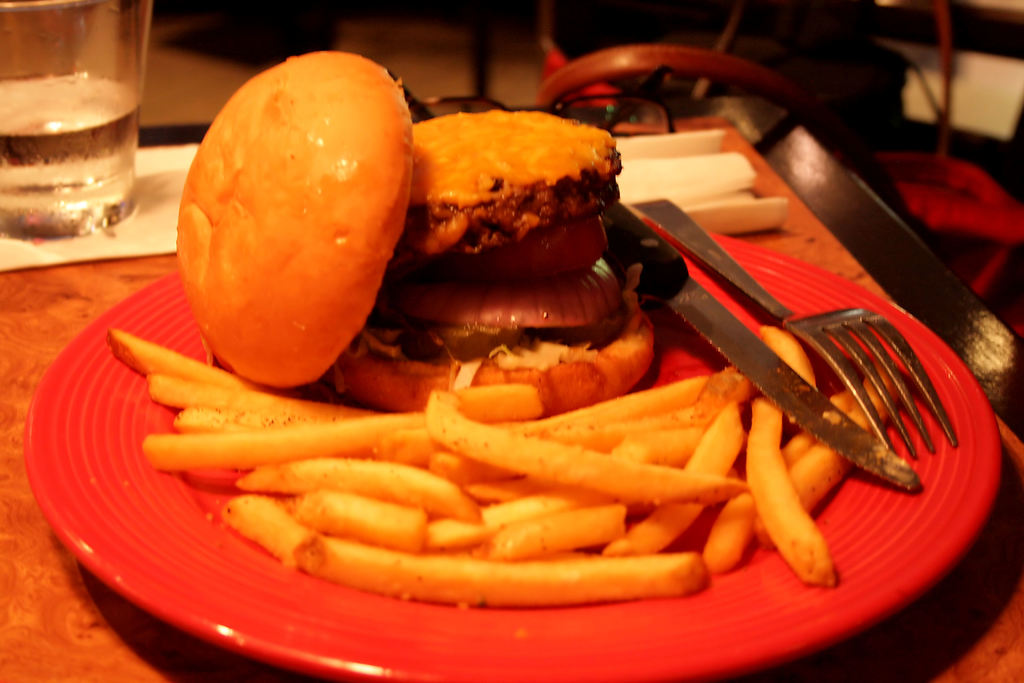French fries: (112, 333, 893, 623)
